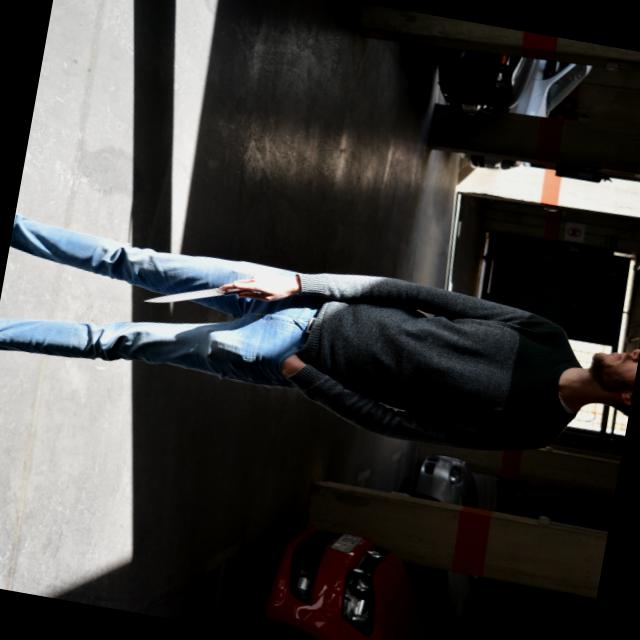knife: (136, 264, 258, 322)
